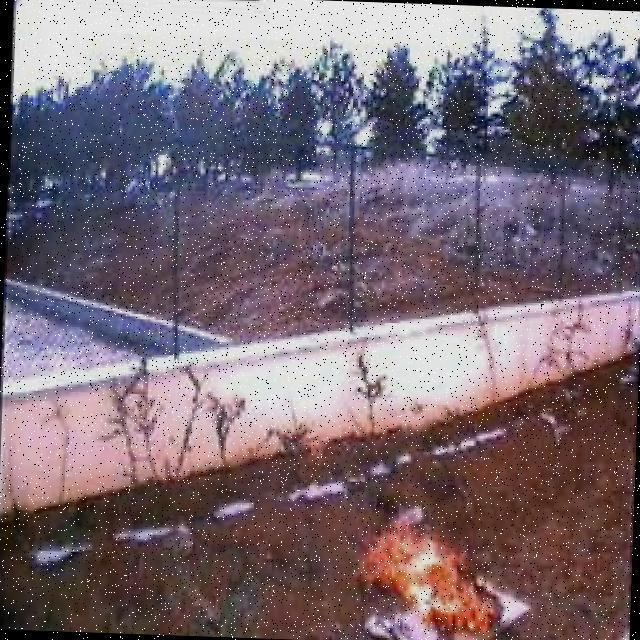Fire: (355, 512, 512, 640)
